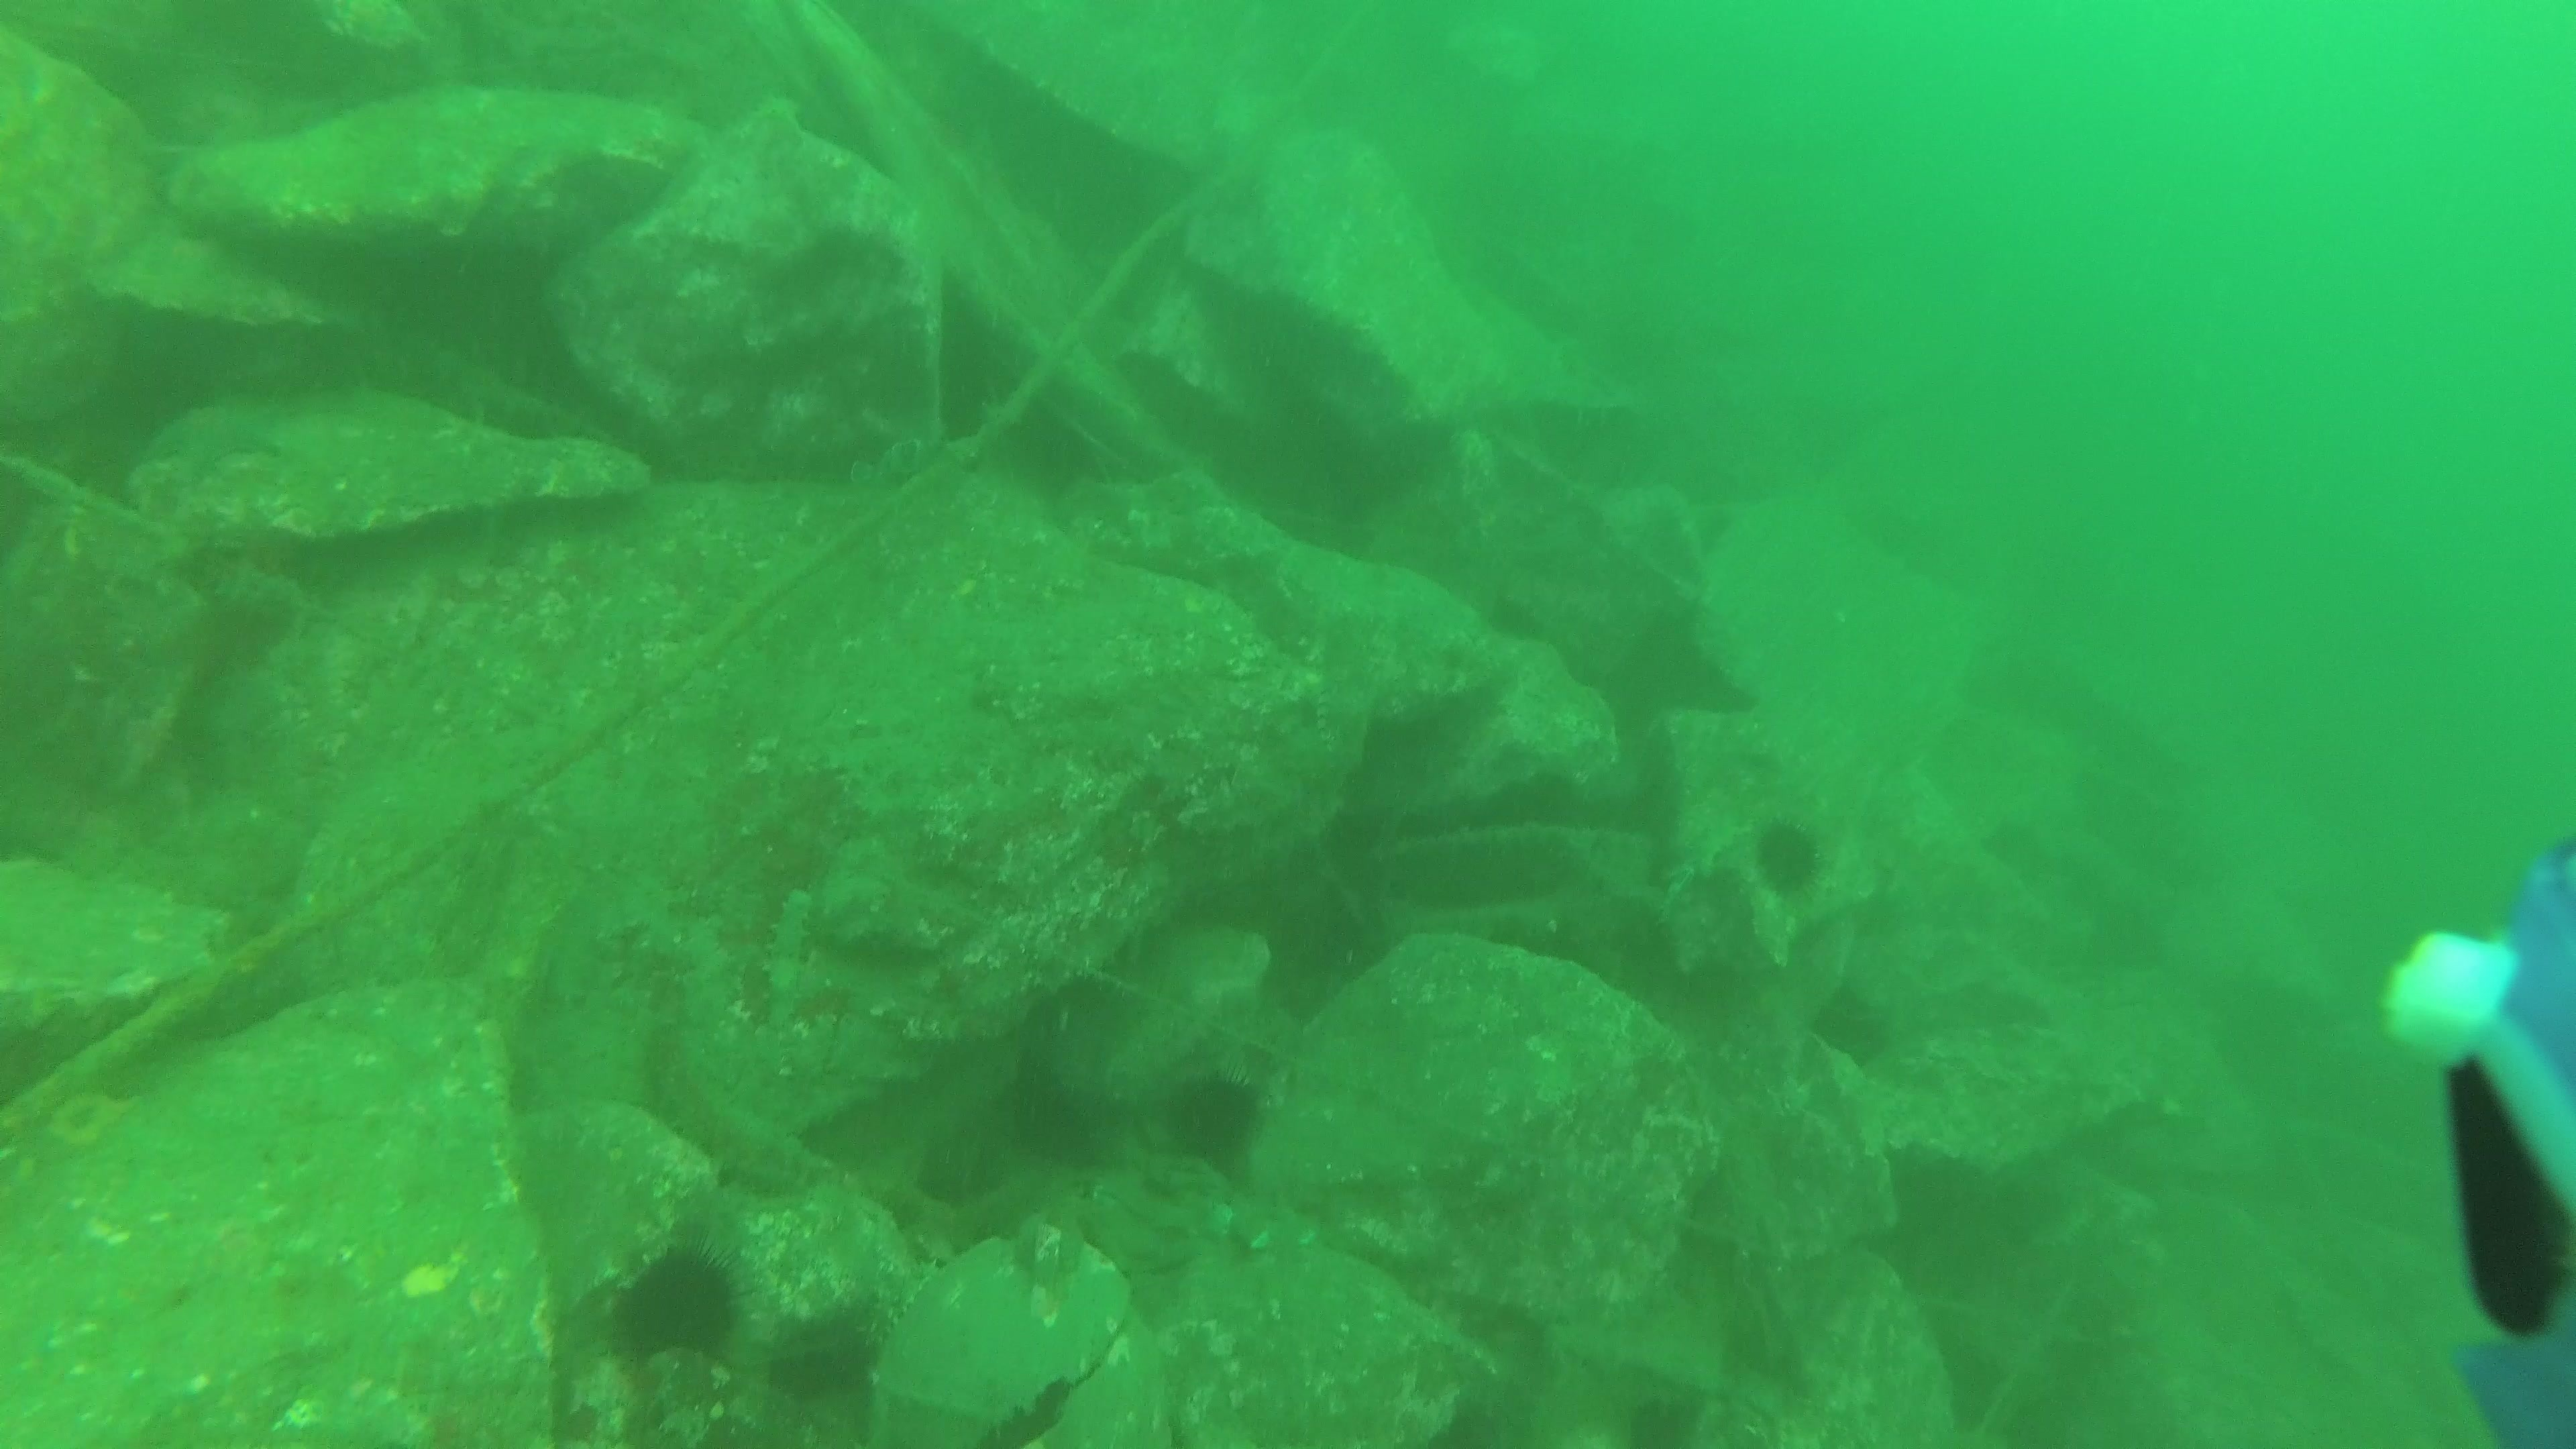echinus: (600, 1238, 752, 1371), (1159, 1062, 1263, 1180), (1746, 809, 1829, 906), (1806, 982, 1890, 1079)
